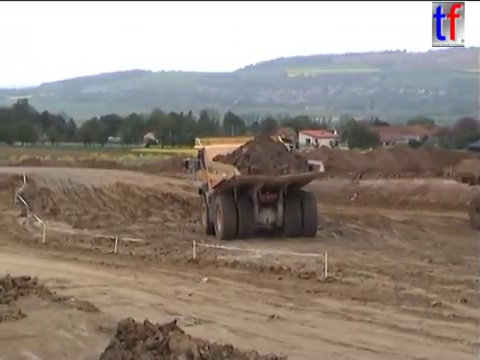truck: (180, 131, 326, 241), (449, 157, 480, 233)
